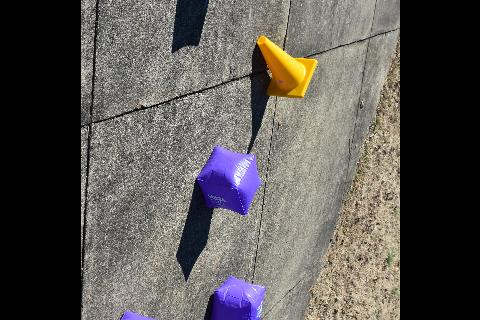cone: (255, 36, 316, 98)
cube: (196, 147, 260, 216), (208, 275, 264, 320)
